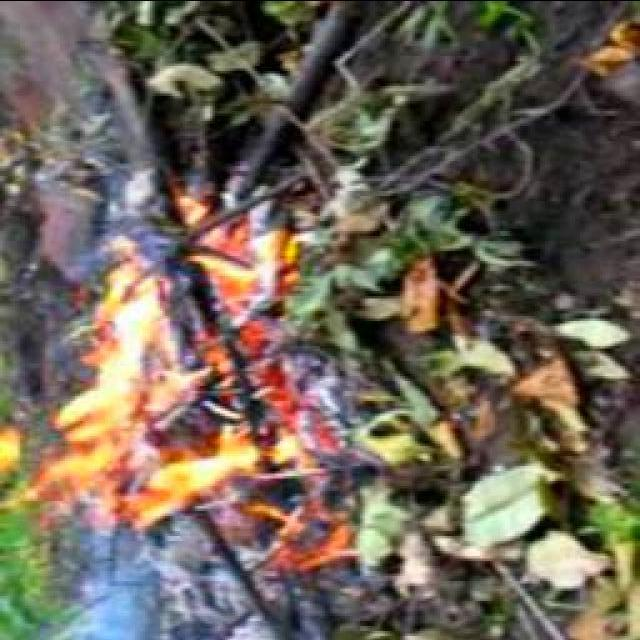Fire: (8, 262, 202, 522), (128, 418, 275, 549)
